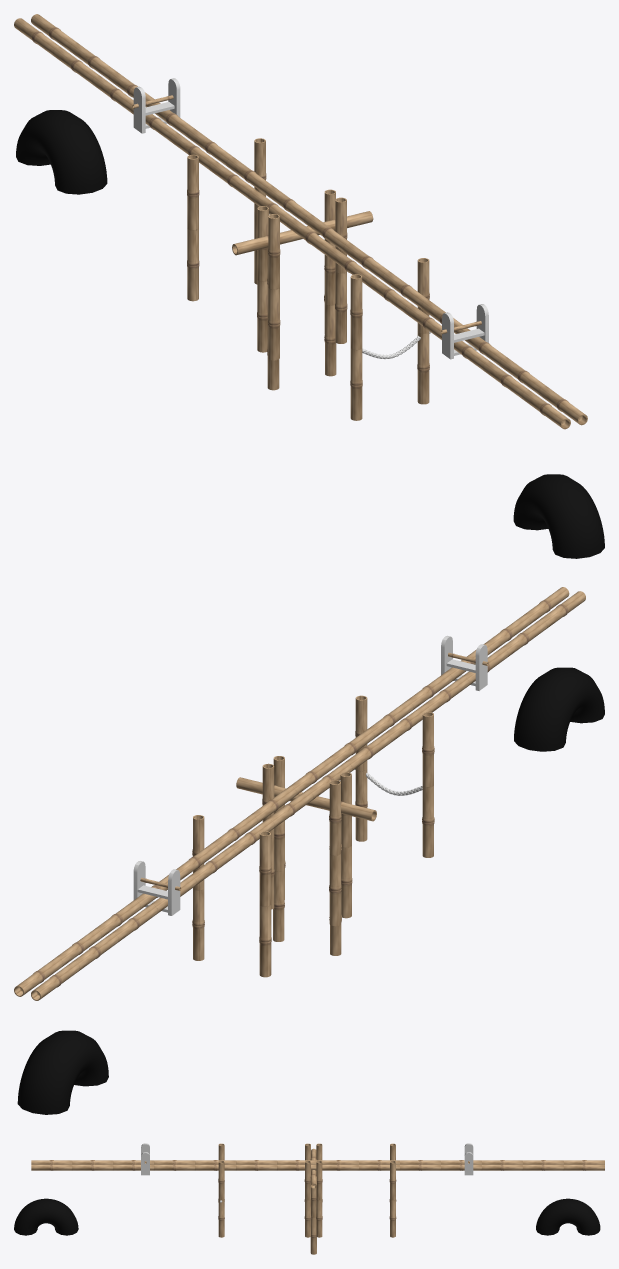
The model's file is 竹シーソー .fbx.
3 renders of one model, top to bottom at view 1: azimuth 30°, elevation 25°; view 2: azimuth 150°, elevation 25°; view 3: azimuth 270°, elevation 25°, orthographic. The views are drawn at different scales.
Visible parts, largest first — view 1: タイヤ, 竹.005, 竹.007, 竹.006, 竹.001, 持ち手, 竹.003, 竹.002, 竹.004; view 2: タイヤ, 竹.005, 竹.007, 竹.006, 竹.002, 持ち手, 竹.001, 竹.003, 竹.004; view 3: 竹.007, タイヤ, 竹.005, 竹.006, 竹.002, 持ち手, 竹.001, 竹.003, 竹.004.
Boxes of the visible parts, left/top/right/bottom form: タイヤ: left=16, top=110, right=604, bottom=558; 竹.005: left=14, top=18, right=570, bottom=429; 竹.007: left=31, top=14, right=587, bottom=425; 竹.006: left=187, top=138, right=429, bottom=420; 竹.001: left=268, top=197, right=347, bottom=360; 持ち手: left=133, top=78, right=488, bottom=359; 竹.003: left=267, top=239, right=336, bottom=390; 竹.002: left=257, top=189, right=335, bottom=352; 竹.004: left=232, top=211, right=373, bottom=255; タイヤ: left=17, top=667, right=604, bottom=1114; 竹.005: left=31, top=591, right=585, bottom=1000; 竹.007: left=14, top=587, right=569, bottom=996; 竹.006: left=192, top=695, right=434, bottom=977; 竹.002: left=262, top=763, right=341, bottom=926; 持ち手: left=133, top=635, right=487, bottom=915; 竹.001: left=273, top=756, right=352, bottom=918; 竹.003: left=273, top=805, right=341, bottom=955; 竹.004: left=236, top=777, right=376, bottom=821; 竹.007: left=31, top=1164, right=604, bottom=1170; タイヤ: left=14, top=1198, right=600, bottom=1235; 竹.005: left=31, top=1160, right=604, bottom=1164; 竹.006: left=218, top=1143, right=396, bottom=1237; 竹.002: left=316, top=1143, right=322, bottom=1237; 持ち手: left=141, top=1143, right=473, bottom=1175; 竹.001: left=304, top=1143, right=311, bottom=1237; 竹.003: left=310, top=1187, right=316, bottom=1254; 竹.004: left=310, top=1148, right=316, bottom=1188.
Bounding box in the file's own units: 400 × 531 × 2885.
Materials: 3 (1 with a texture image).
